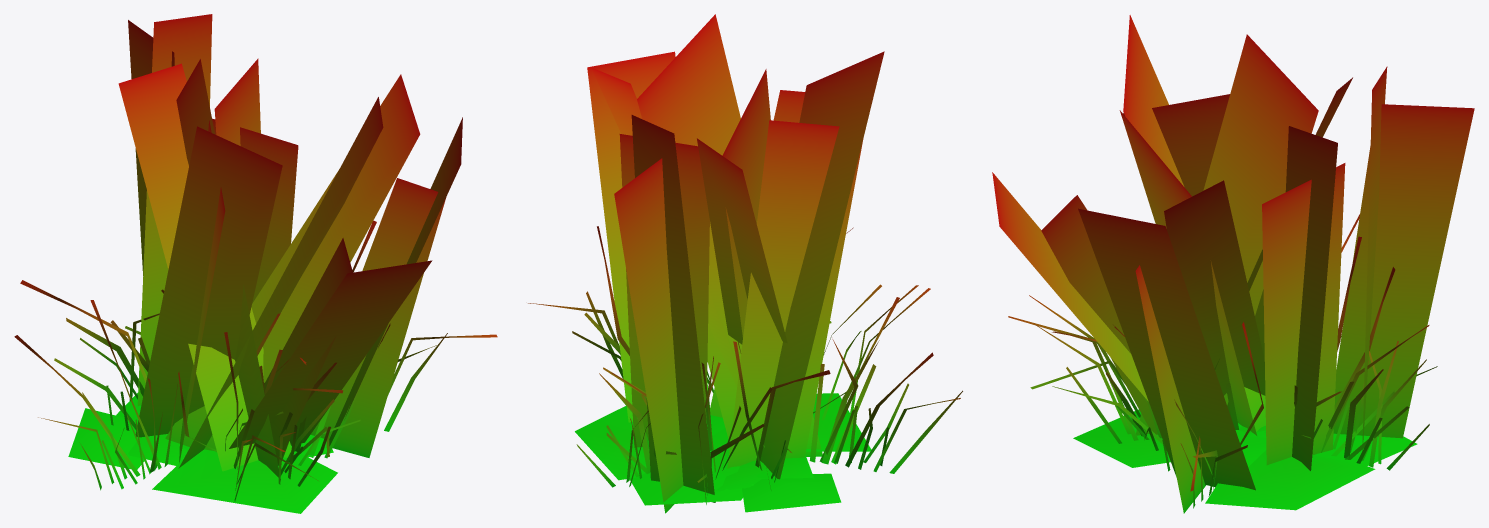
Rendered from Var14_LOD3.fbx.
3 views of the same model, side by side, from view 1: azimuth 30°, elevation 25°; view 2: azimuth 150°, elevation 25°; view 3: azimuth 270°, elevation 25° (orthographic).
Visible parts, largest first — view 1: _bd60_Var14_LOD3; view 2: _bd60_Var14_LOD3; view 3: _bd60_Var14_LOD3.
Part boxes in pixels (x1,y1,x2,y2): _bd60_Var14_LOD3: (14,14,497,513); _bd60_Var14_LOD3: (528,14,962,513); _bd60_Var14_LOD3: (992,15,1474,513).
Size of the model in its own units: 11.55 by 10.07 by 10.67.
